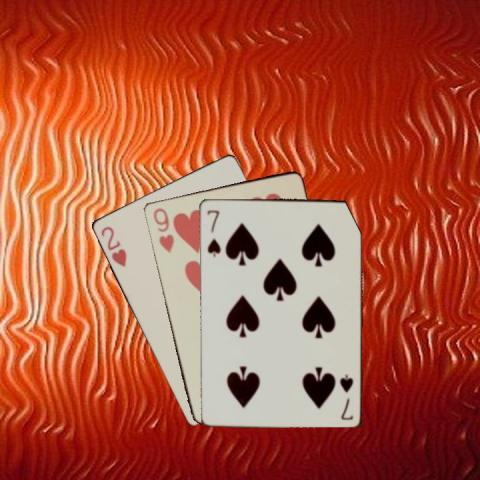2h: (98, 223, 128, 268)
7s: (204, 207, 222, 258), (336, 370, 354, 420)
9h: (150, 205, 175, 254)
